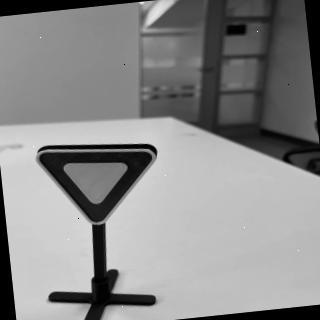sign_yield: (30, 133, 166, 233)
